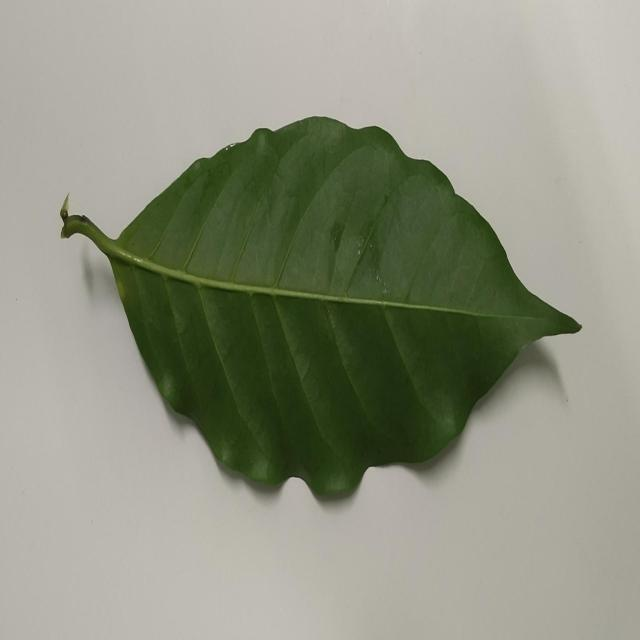Sanas: (58, 118, 582, 507)
